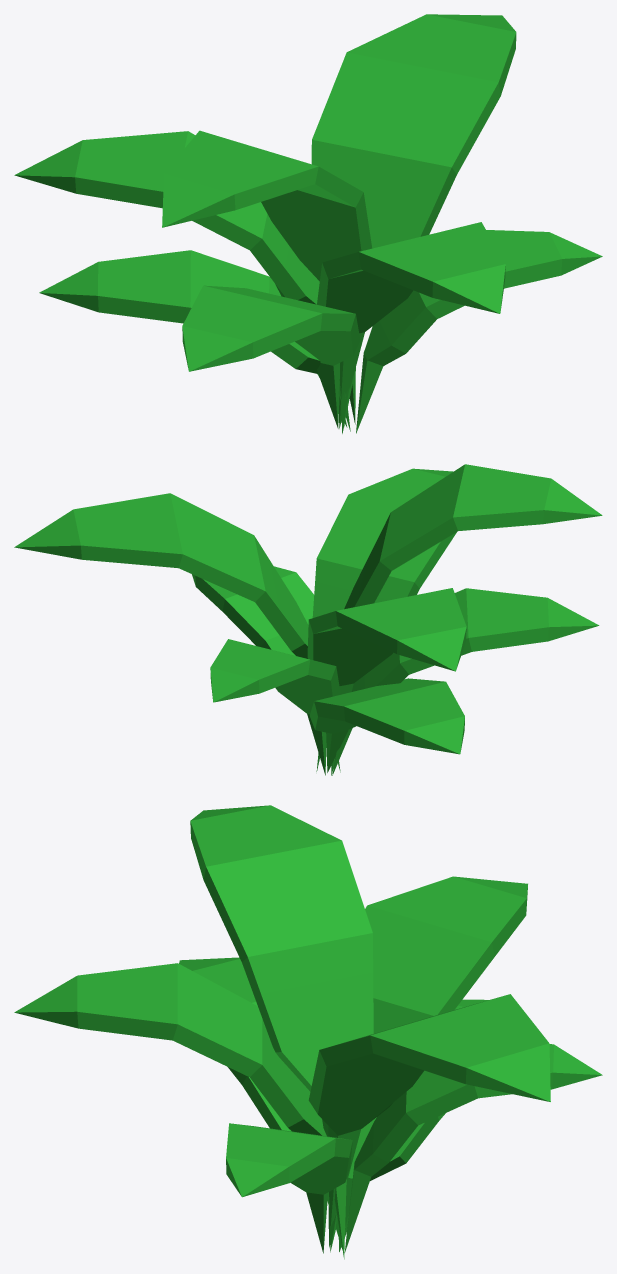
The model's file is plant.fbx.
3 views of the same model, one above another, from view 1: azimuth 30°, elevation 25°; view 2: azimuth 150°, elevation 25°; view 3: azimuth 270°, elevation 25° (orthographic). The views are drawn at different scales.
Parts seen in each view (by area): view 1: Tree.052; view 2: Tree.052; view 3: Tree.052.
Part boxes in pixels (x1=…): Tree.052: x1=14, y1=14, x2=602, y2=433; Tree.052: x1=14, y1=464, x2=602, y2=775; Tree.052: x1=14, y1=805, x2=602, y2=1259.
Size of the model in its own units: 344 by 215 by 337.
